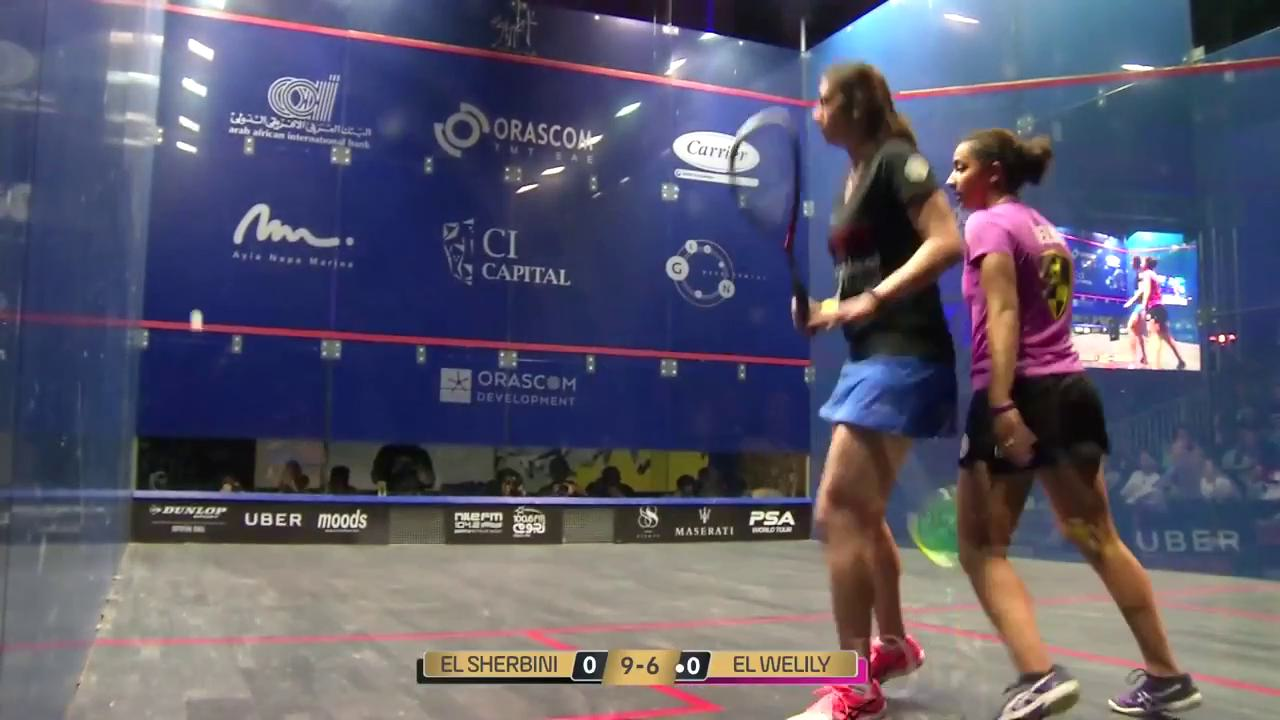normal: (946, 130, 1203, 720), (800, 60, 970, 720)
